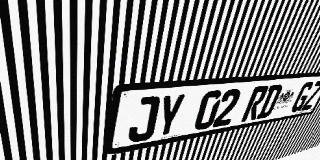0: (193, 90, 224, 131)
2: (212, 88, 243, 128)
D: (256, 84, 284, 119)
G: (289, 81, 315, 113)
J: (127, 95, 161, 144)
R: (241, 85, 270, 122)
Y: (153, 93, 186, 139)
Z: (300, 80, 320, 111)
